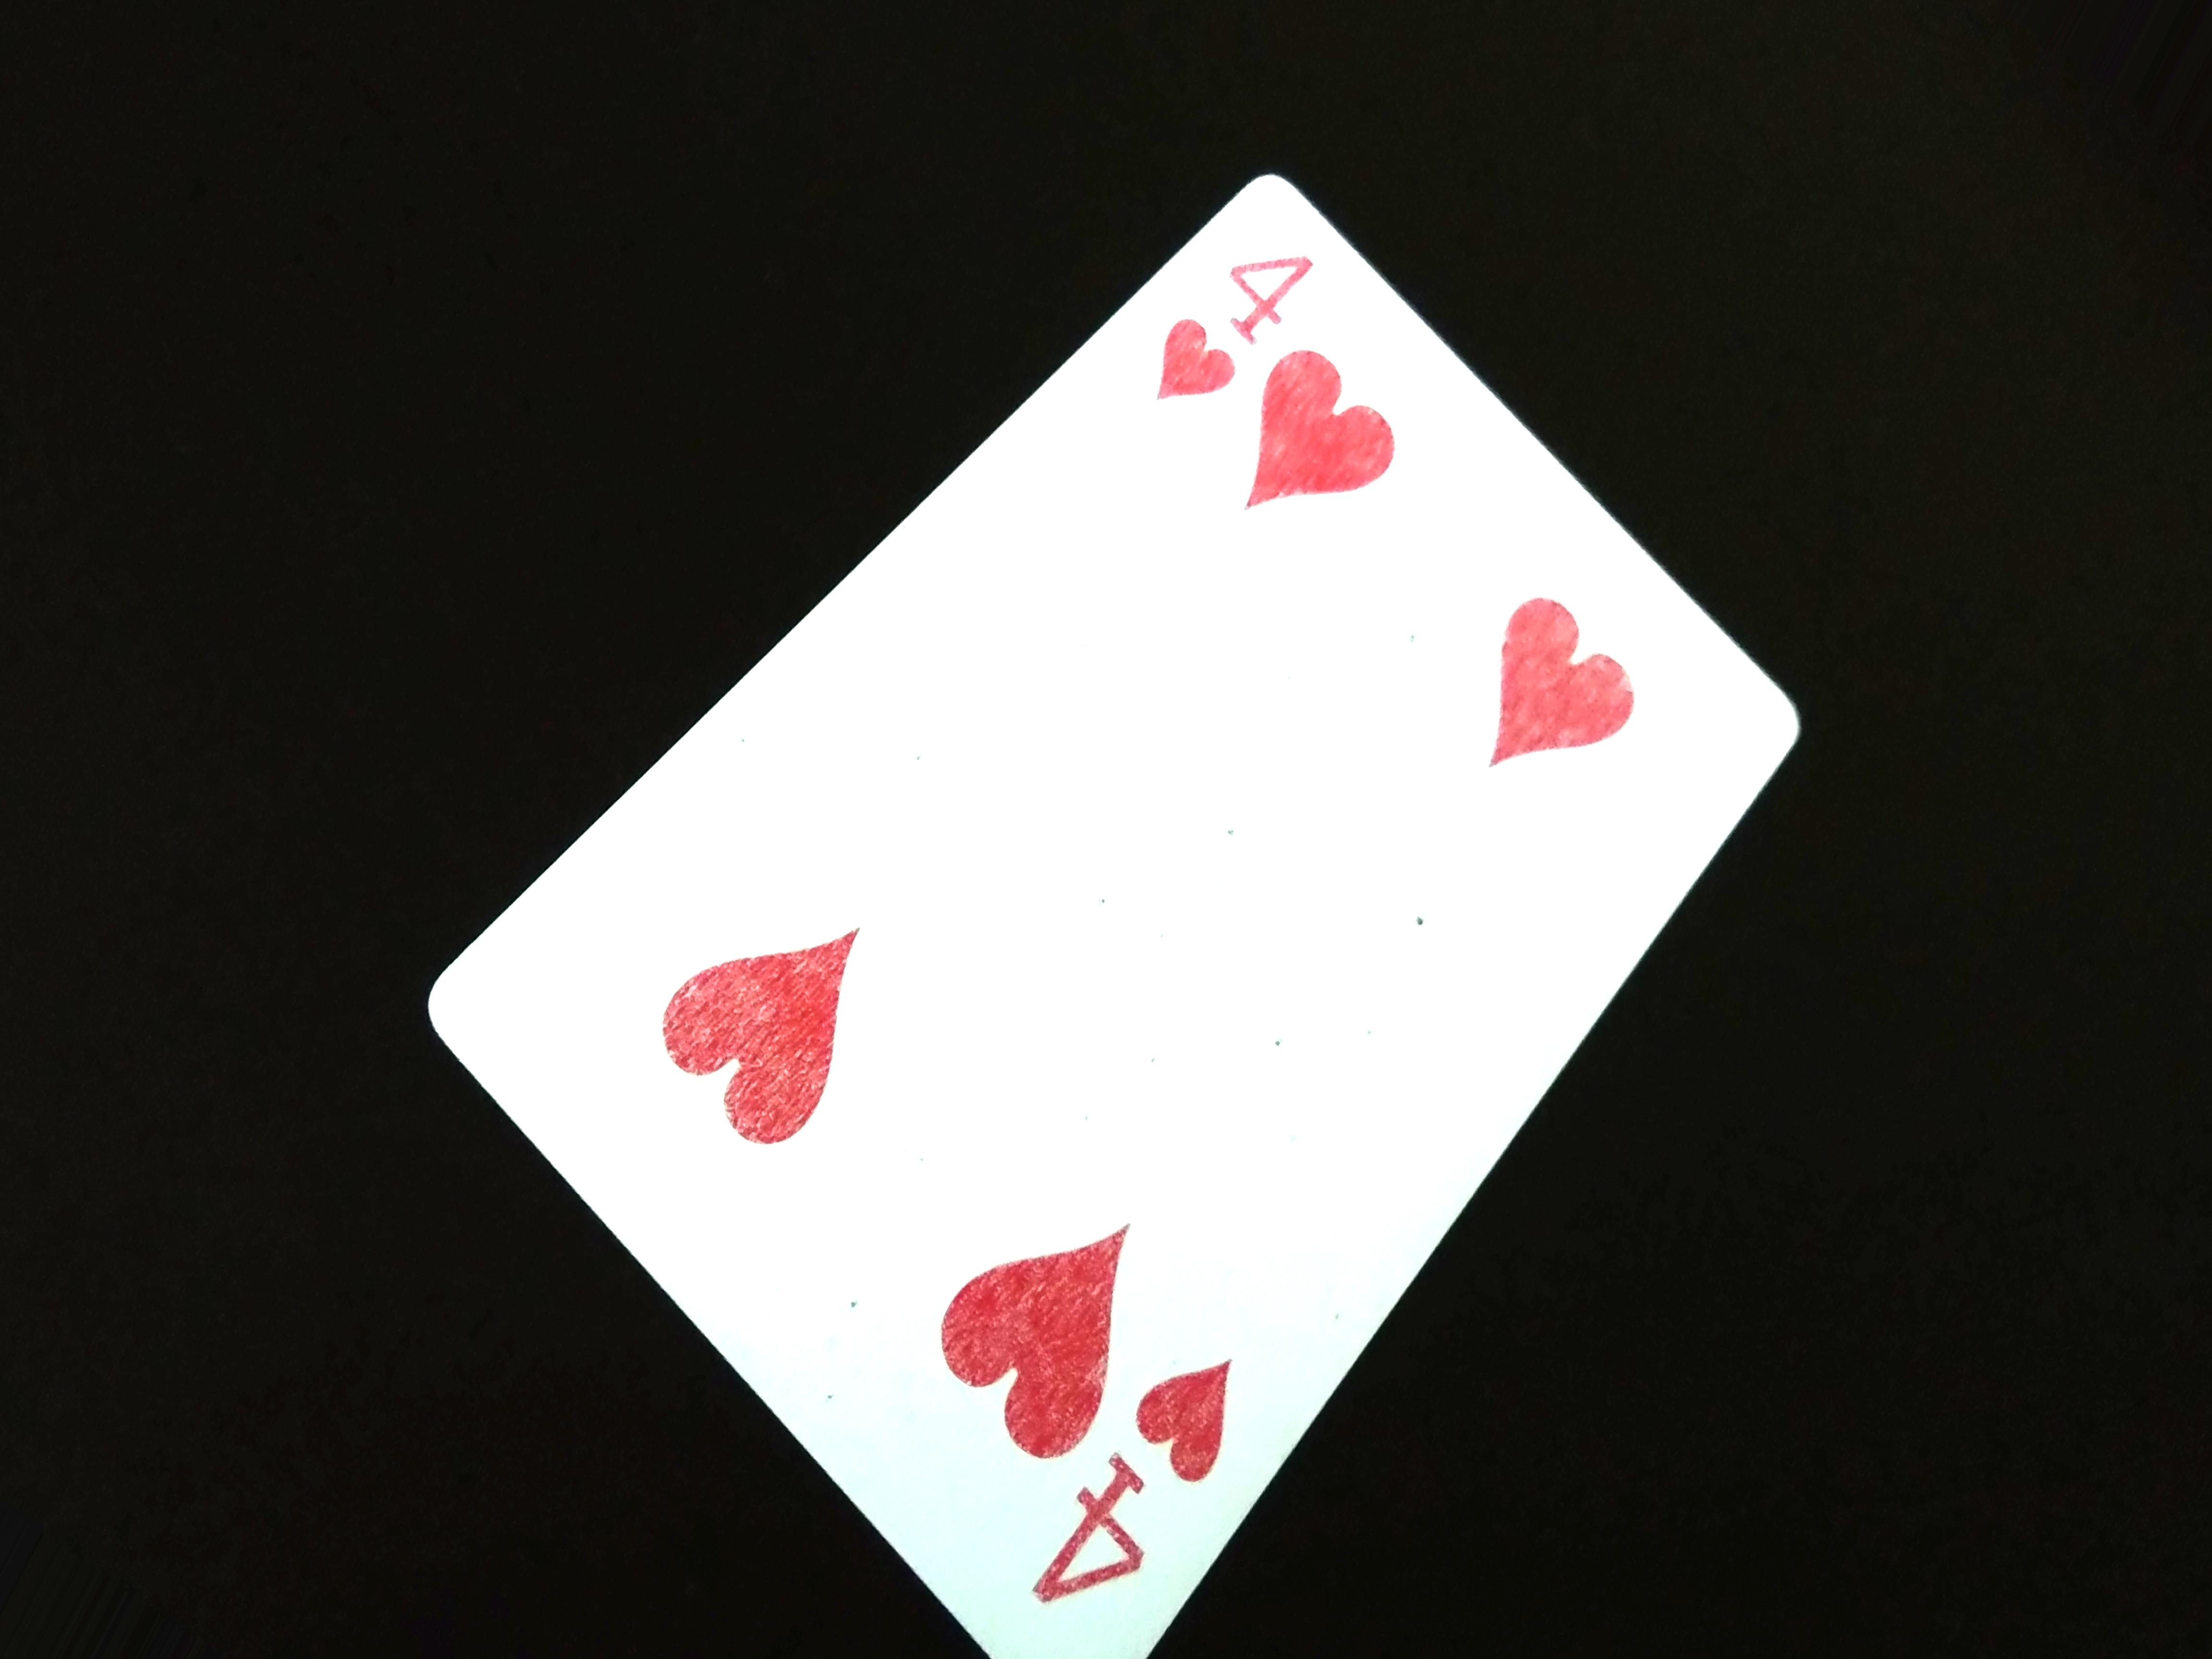4H: (1148, 230, 1308, 439)
